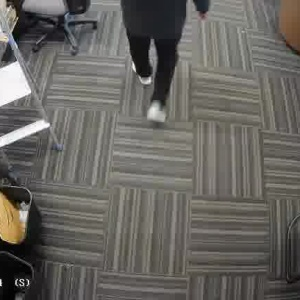person: (111, 0, 208, 120)
